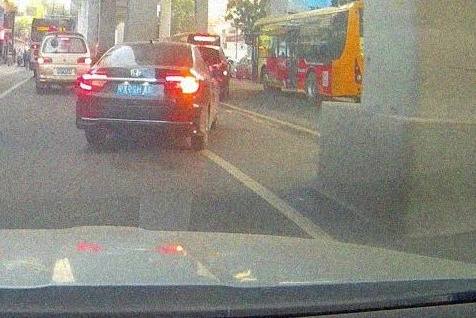L_light: (78, 74, 108, 91)
R_light: (166, 75, 199, 94)
T_light: (141, 44, 159, 48)
day-right: (75, 41, 201, 151)
